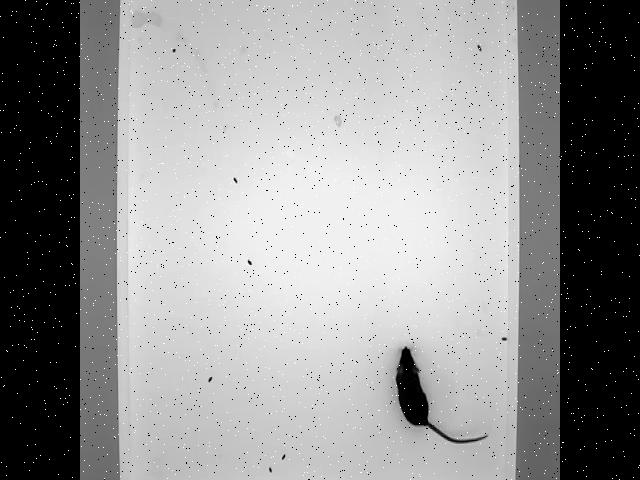Tikus: (392, 345, 487, 444)
